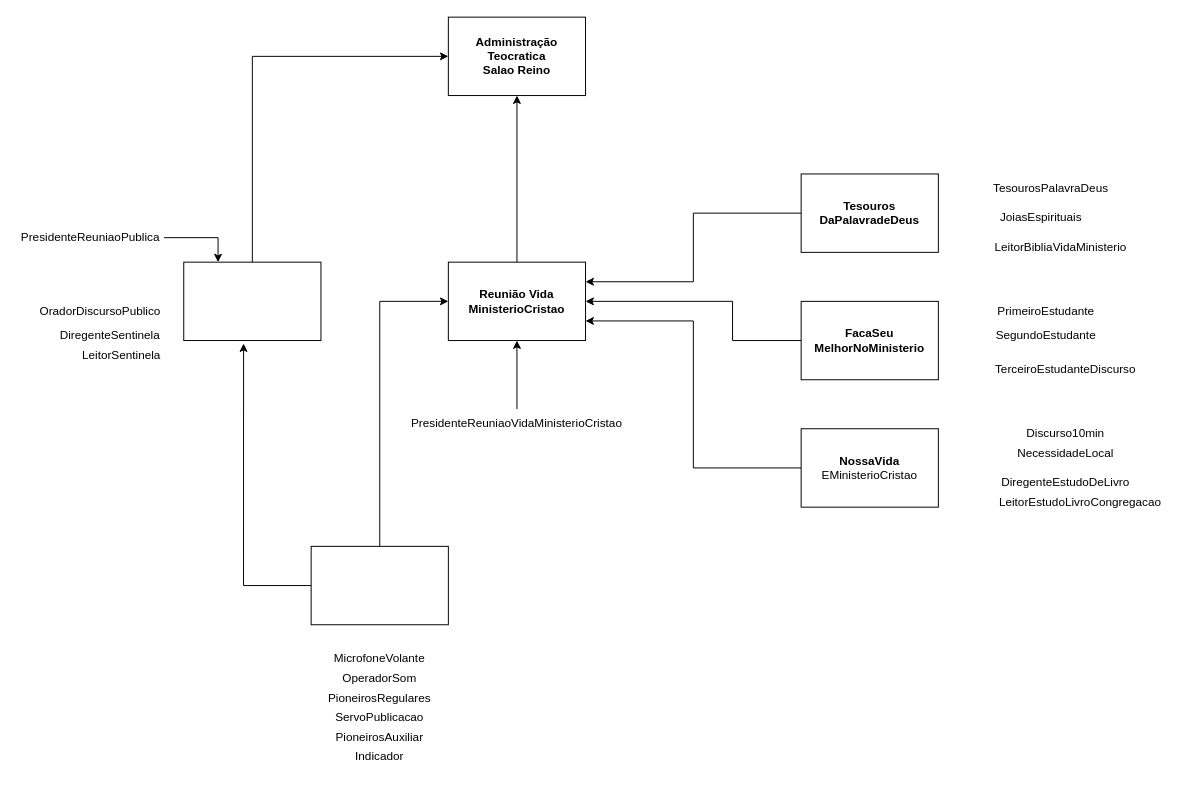
The diagram is 1178 pixels wide and 789 high, and some of its shapes have lost their labels. The centre of each missing label's shape, as x and y in pixels:
"Cadastro DesignacoesGerais" goes at [379,585].
"Reunião Publica EstudoSentinela" goes at [252,301].
